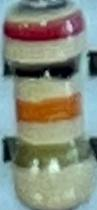Black: (8, 58, 82, 79)
Orange: (17, 95, 84, 123)
Red: (7, 10, 84, 42)
Side-Gold: (17, 137, 93, 170)
